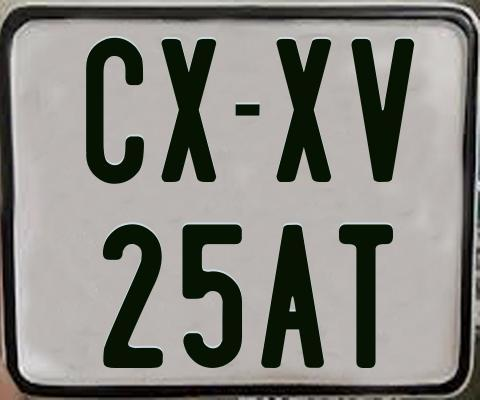2: (102, 224, 163, 374)
5: (182, 224, 248, 372)
A: (259, 223, 322, 372)
C: (86, 35, 150, 181)
T: (336, 221, 391, 367)
V: (348, 36, 413, 180)
X: (159, 38, 218, 182), (274, 36, 332, 180)
